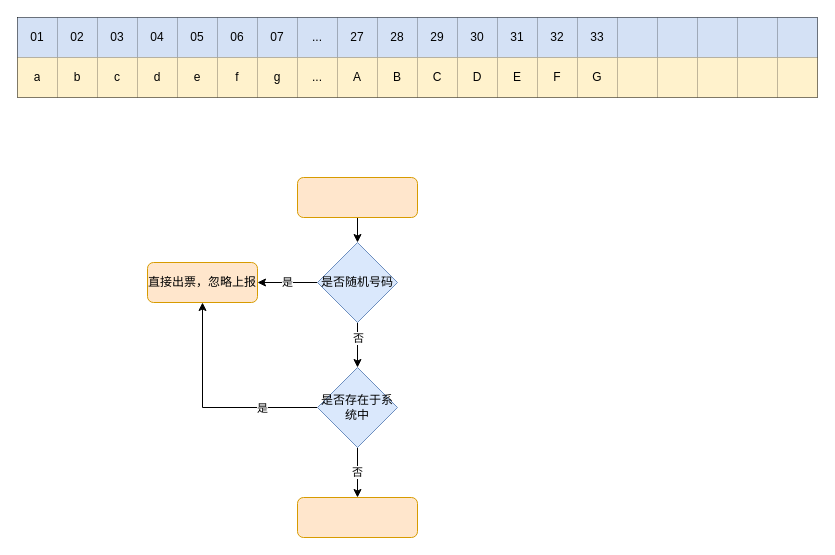
This 835x555 diagram has some shape labels left out. Here are the shapes that lost their labels. From the top down, the box of each, then its label:
(296, 176, 418, 218): 彩票下单
(296, 496, 418, 538): 记录上报号码，定时上报系统
